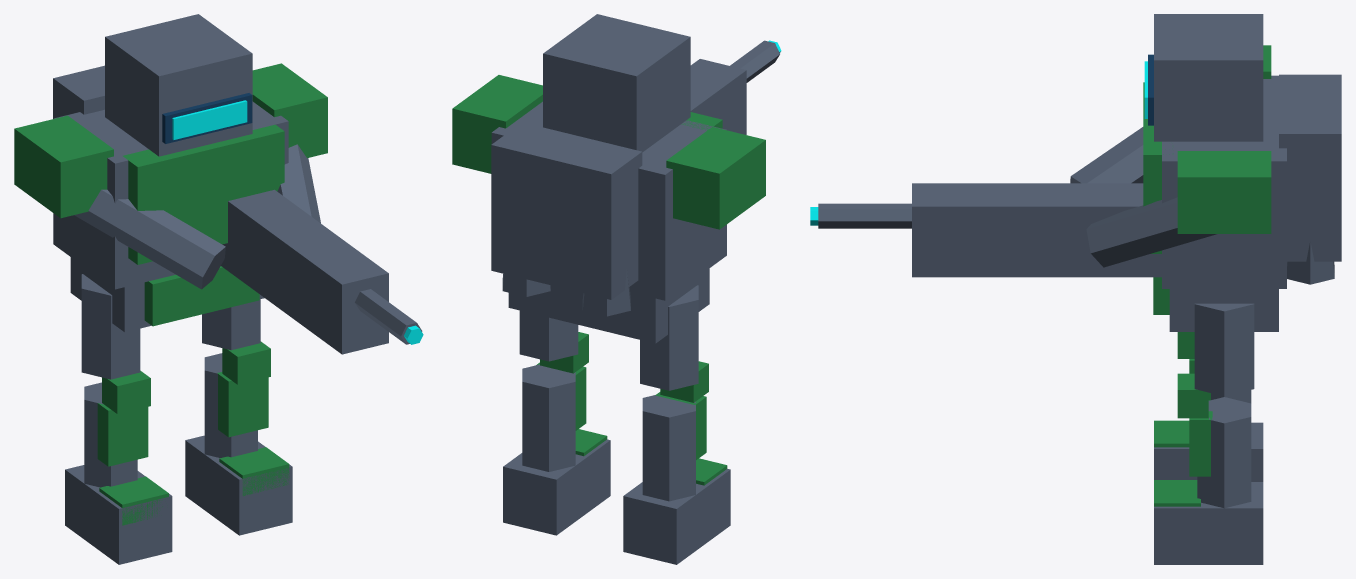
The model's file is marine.obj.
3 renders of one model, left to right at view 1: azimuth 30°, elevation 25°; view 2: azimuth 150°, elevation 25°; view 3: azimuth 270°, elevation 25°, orthographic.
Parts seen in each view (by area): view 1: ModelMesh; view 2: ModelMesh; view 3: ModelMesh.
Boxes of the visible parts, x1,y1,x2,y2 form: ModelMesh: (14,14,423,564); ModelMesh: (452,14,781,564); ModelMesh: (810,14,1341,564).
Size of the model in its own units: 0.2 by 0.3425 by 0.34.
